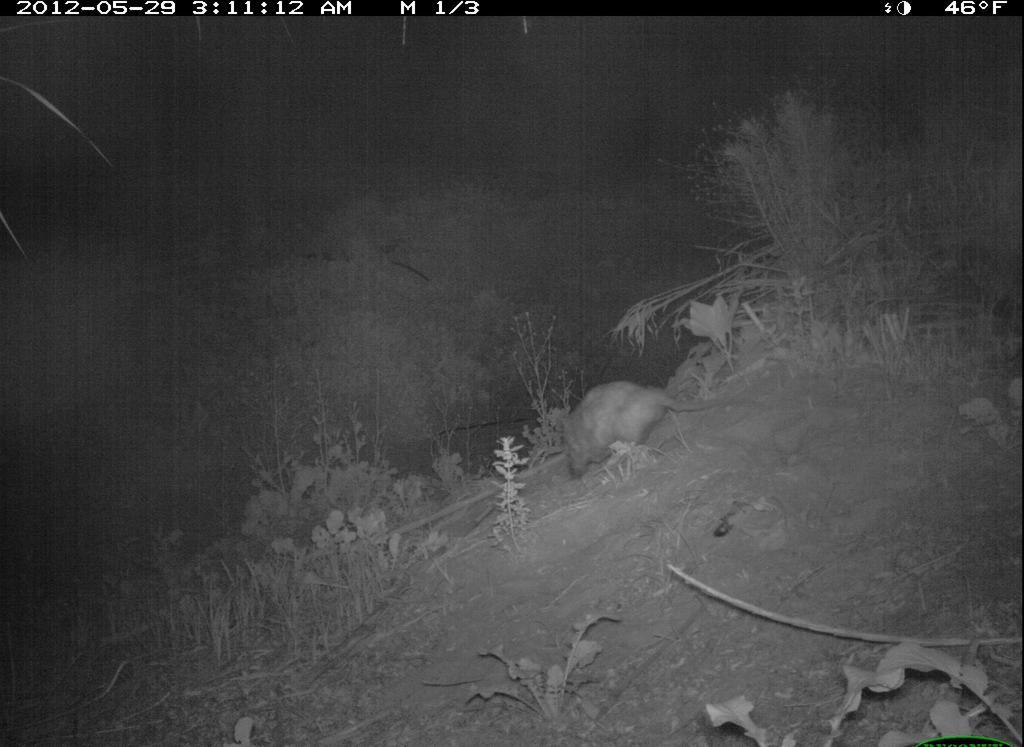opossum: (552, 376, 740, 486)
